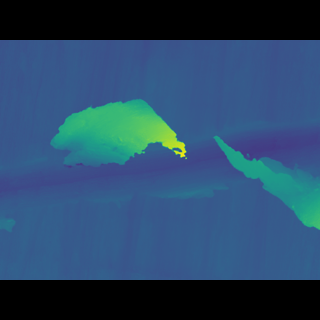Loch: (0, 109, 320, 213), (205, 134, 319, 212), (43, 108, 185, 168)
